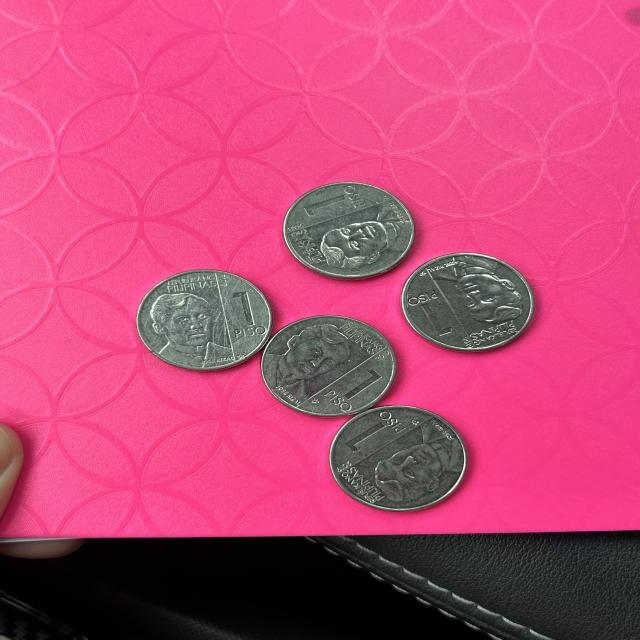1_New_Front: (400, 284, 461, 341), (345, 411, 405, 455), (322, 361, 382, 404), (226, 285, 266, 349), (297, 184, 370, 219)
